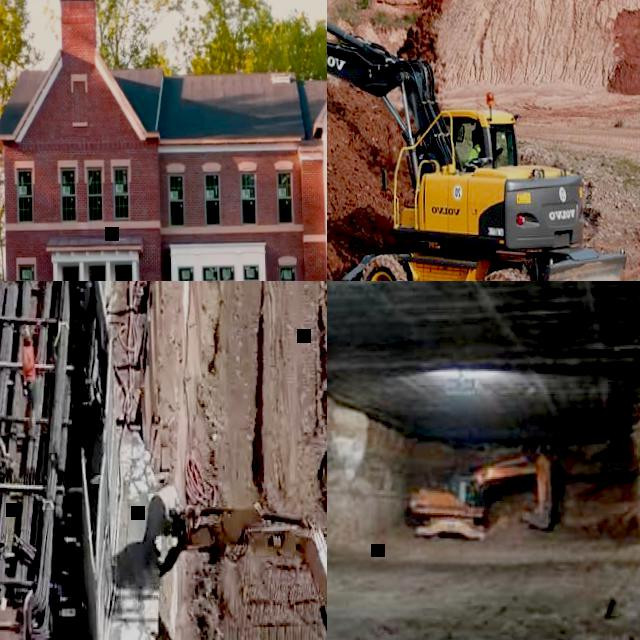helmet: (22, 326, 30, 338)
machinery: (327, 0, 627, 281), (141, 477, 327, 640), (404, 450, 554, 541)
no_helmet: (469, 130, 478, 140)
person: (21, 324, 40, 420), (318, 435, 327, 532), (462, 131, 483, 166)
vehicle: (0, 281, 93, 640)
vest: (23, 342, 35, 378), (466, 146, 482, 165)
